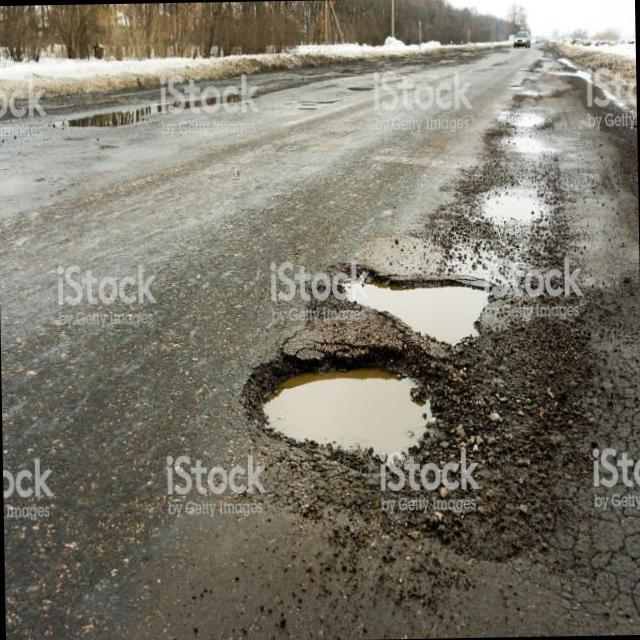Pothole: (263, 368, 431, 453), (341, 264, 507, 343), (479, 186, 547, 225)
